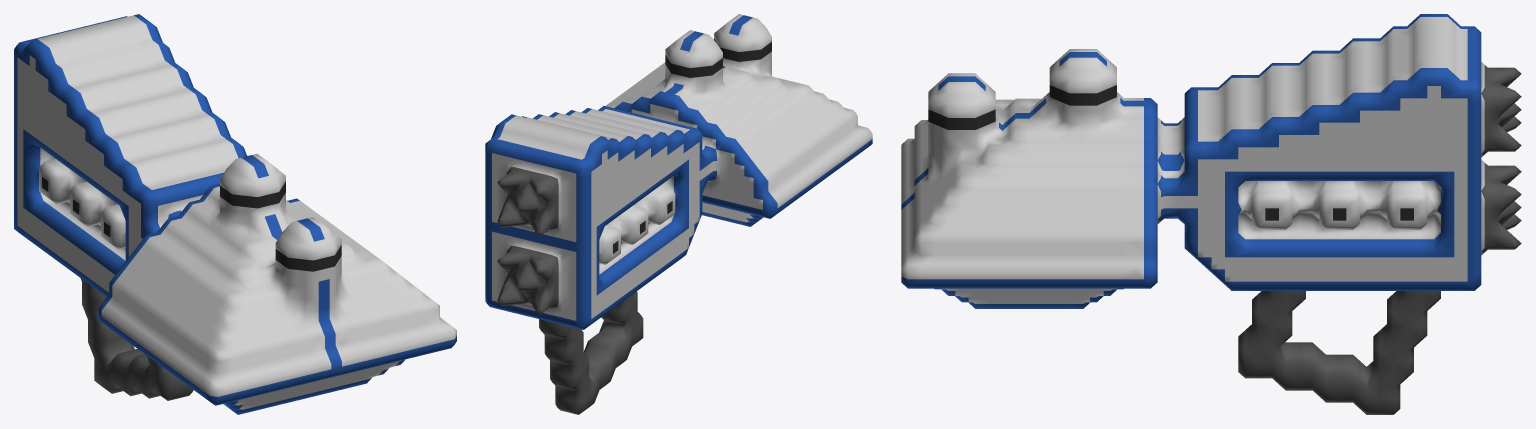
The model's file is diadochi-1-typhon-class.obj.
3 renders of one model, left to right at view 1: azimuth 30°, elevation 25°; view 2: azimuth 150°, elevation 25°; view 3: azimuth 270°, elevation 25°, orthographic. The views are drawn at different scales.
Bounding box in the file's own units: 23 × 30 × 46.
1 material, 1 textured.
